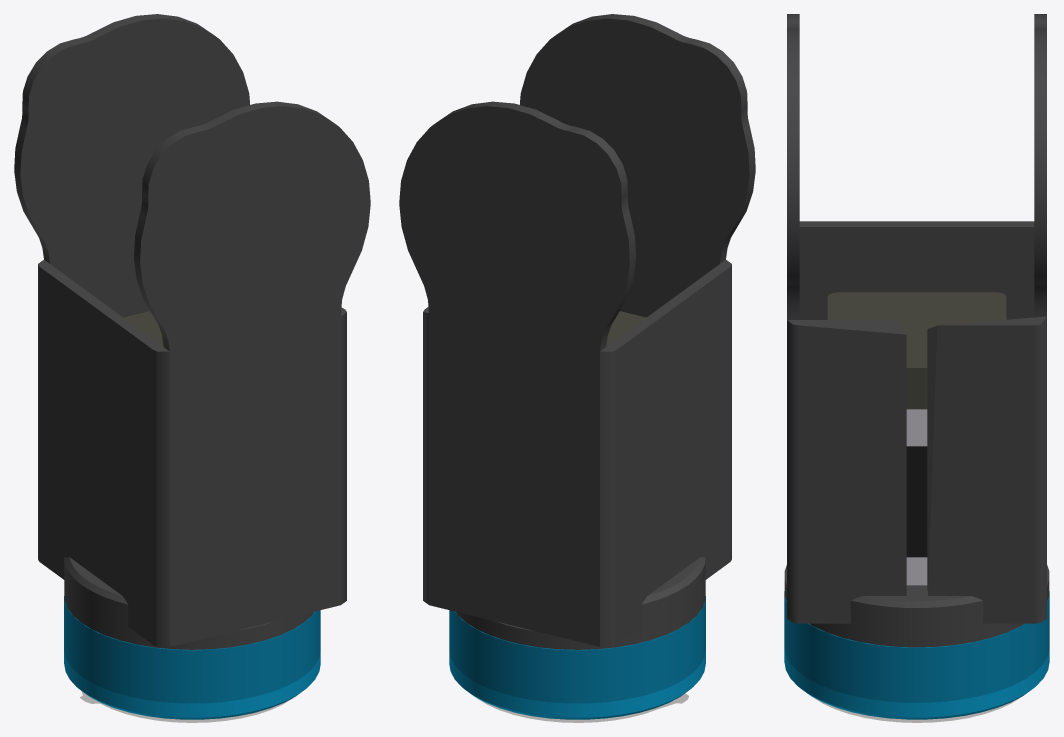
Rendered from elbow_link.dae.
3 renders of one model, left to right at view 1: azimuth 30°, elevation 25°; view 2: azimuth 150°, elevation 25°; view 3: azimuth 270°, elevation 25°, orthographic. The views are drawn at different scales.
Parts seen in each view (by area): view 1: FBXASC227FBXASC130FBXASC189FBXASC227FBXASC131FBXASC170FBXASC (×6); view 2: FBXASC227FBXASC130FBXASC189FBXASC227FBXASC131FBXASC170FBXASC (×6); view 3: FBXASC227FBXASC130FBXASC189FBXASC227FBXASC131FBXASC170FBXASC (×6).
Part boxes in pixels (box(x1,y1,x2,y2)): FBXASC227FBXASC130FBXASC189FBXASC227FBXASC131FBXASC170FBXASC (×6): box(14, 14, 370, 722); FBXASC227FBXASC130FBXASC189FBXASC227FBXASC131FBXASC170FBXASC (×6): box(399, 14, 755, 722); FBXASC227FBXASC130FBXASC189FBXASC227FBXASC131FBXASC170FBXASC (×6): box(784, 14, 1049, 722).
Bounding box in the file's own units: 0.054 × 0.052 × 0.137.
